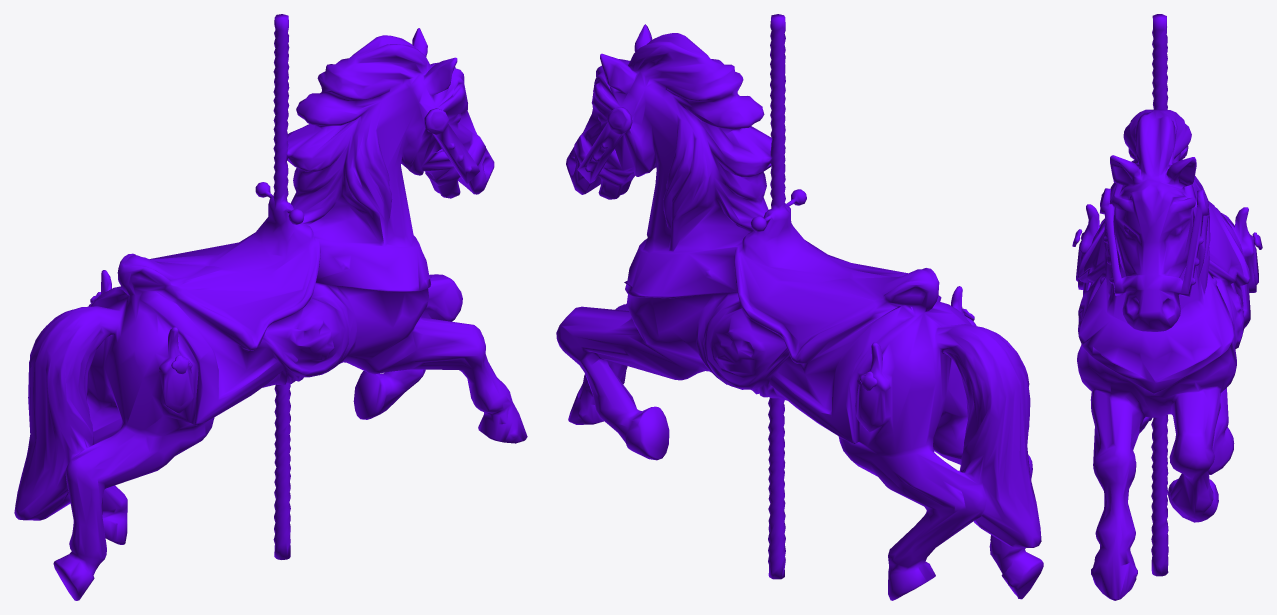
Rendered from park_horse.glb.
The picture shows the model from 3 angles, left to right: view 1: azimuth 30°, elevation 25°; view 2: azimuth 150°, elevation 25°; view 3: azimuth 270°, elevation 25°; orthographic projection. The views are drawn at different scales.
Parts seen in each view (by area): view 1: park_horse; view 2: park_horse; view 3: park_horse.
Boxes of the visible parts, x1,y1,x2,y2 form: park_horse: (14,14,527,600); park_horse: (556,14,1043,600); park_horse: (1072,14,1262,600).
Bounding box in the file's own units: 0.6146 × 0.6587 × 0.2045.
